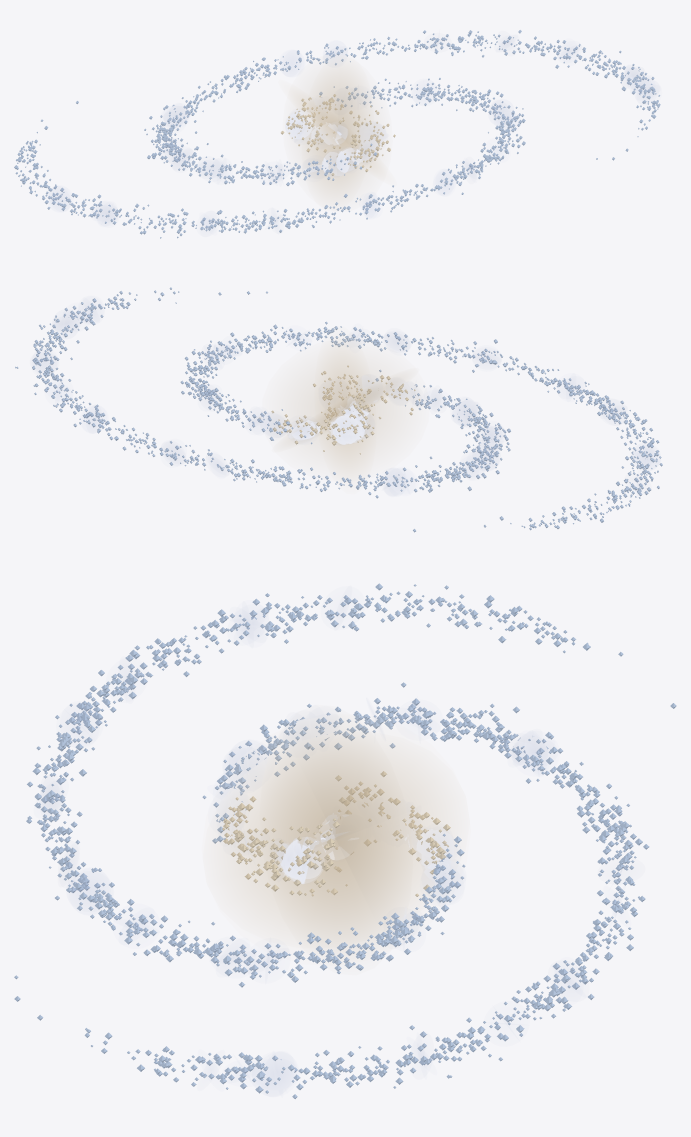
3 views of the same model, one above another, from view 1: azimuth 30°, elevation 25°; view 2: azimuth 150°, elevation 25°; view 3: azimuth 270°, elevation 25° (orthographic). The views are drawn at different scales.
Bounding box in the file's own units: 7.26 × 1.78 × 4.01.
